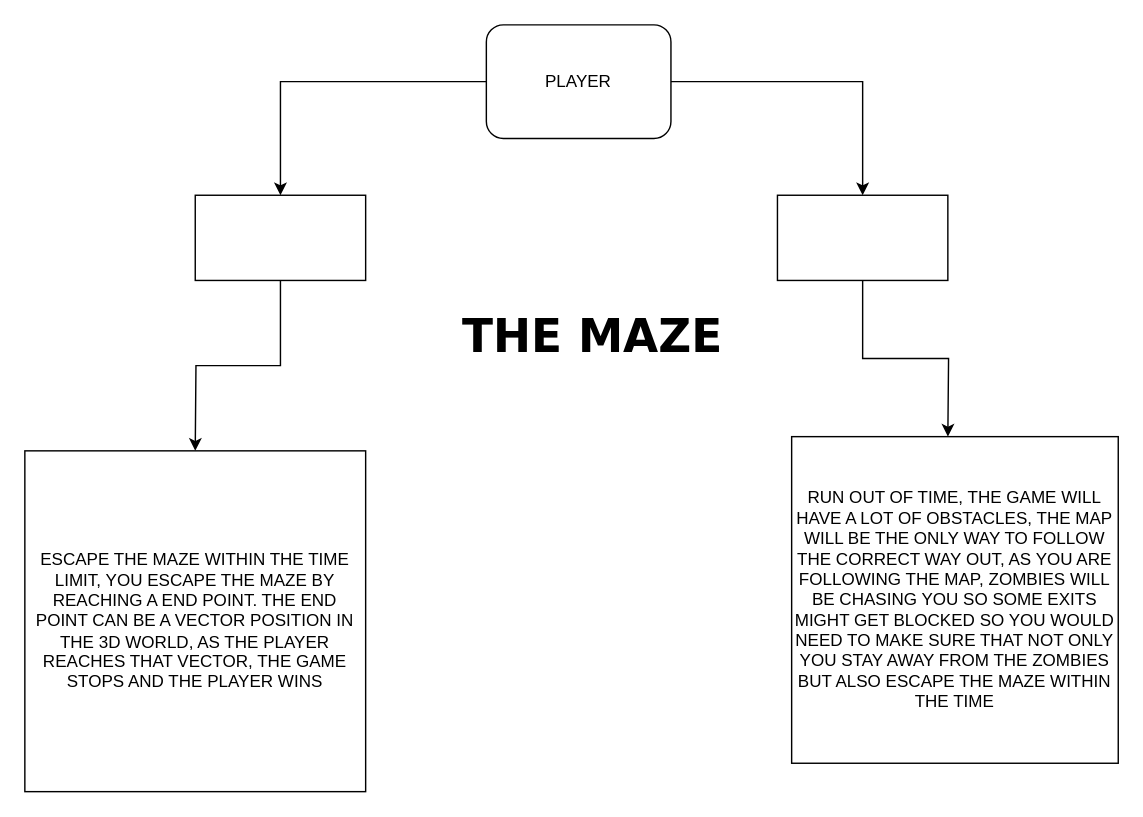
The diagram is 1143 pixels wide and 817 high, and some of its shapes have lost their labels. The shapes that lost their labels are listed below. From the top down, each one's box as (x1, y1, x2, y2) in pixels, then its label:
(194, 194, 366, 280): to win
(776, 194, 948, 280): to loost
